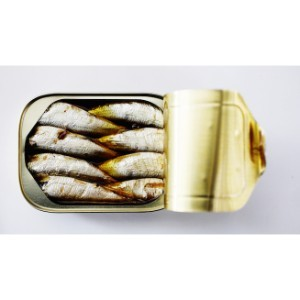sardine_brain food: (32, 98, 156, 215)
